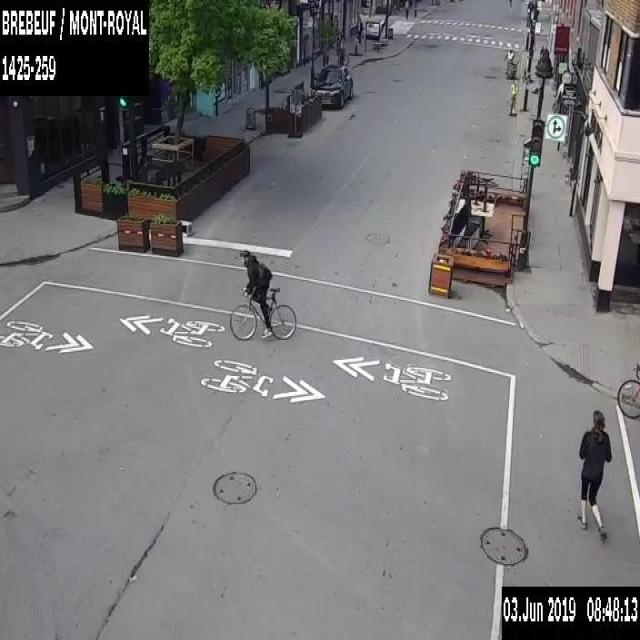cyclist: (228, 250, 296, 338)
pedestrian: (577, 411, 611, 541), (508, 78, 519, 111), (354, 15, 362, 41), (403, 0, 409, 17)
vehicle: (314, 61, 352, 107)
